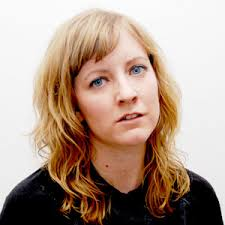white_female: (79, 52, 170, 139)
